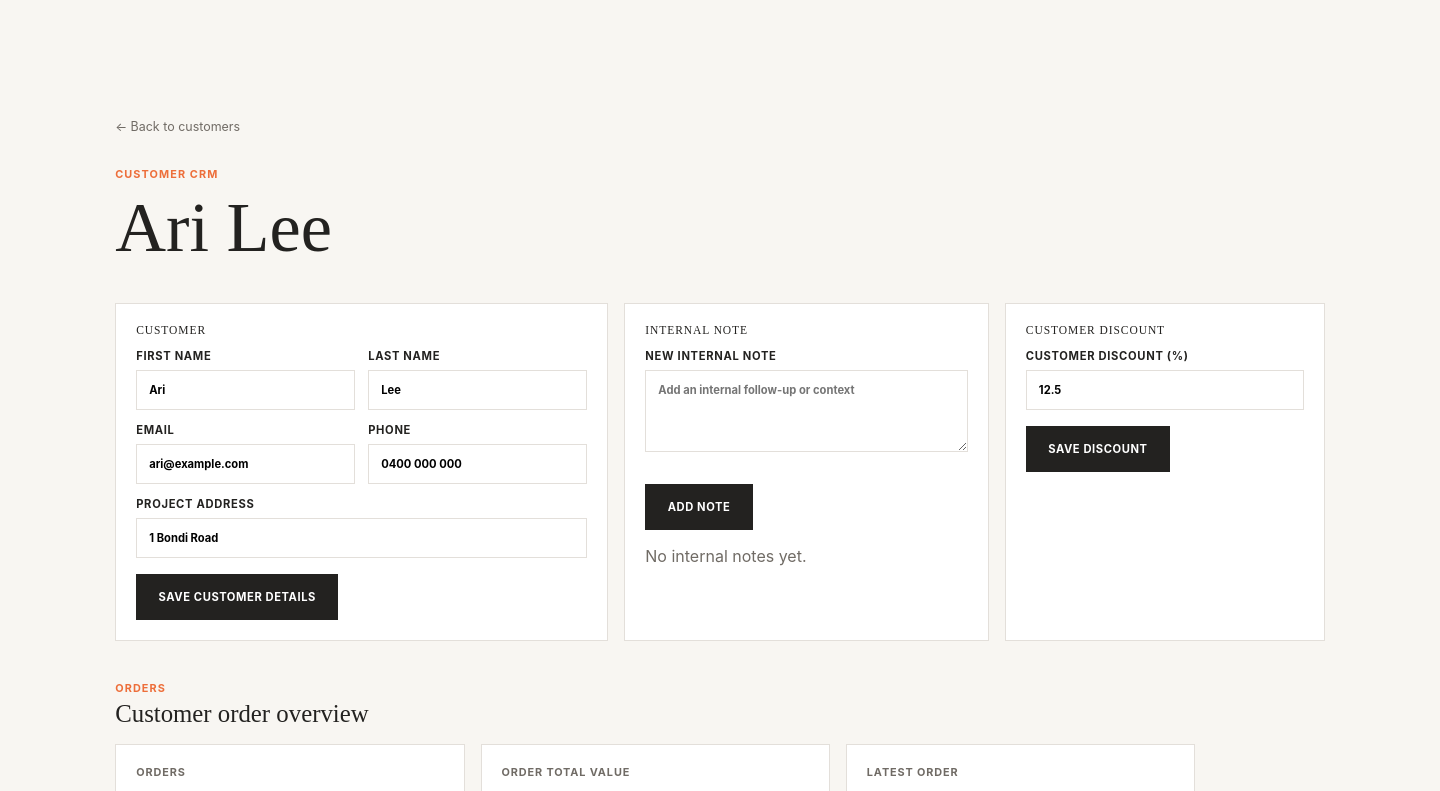
saves a registered customer discount from the CRM detail page
Replace the text in the number field labelled "Customer discount (%)" with "15": {"x": 1165, "y": 390} [1026,370,1304,410]
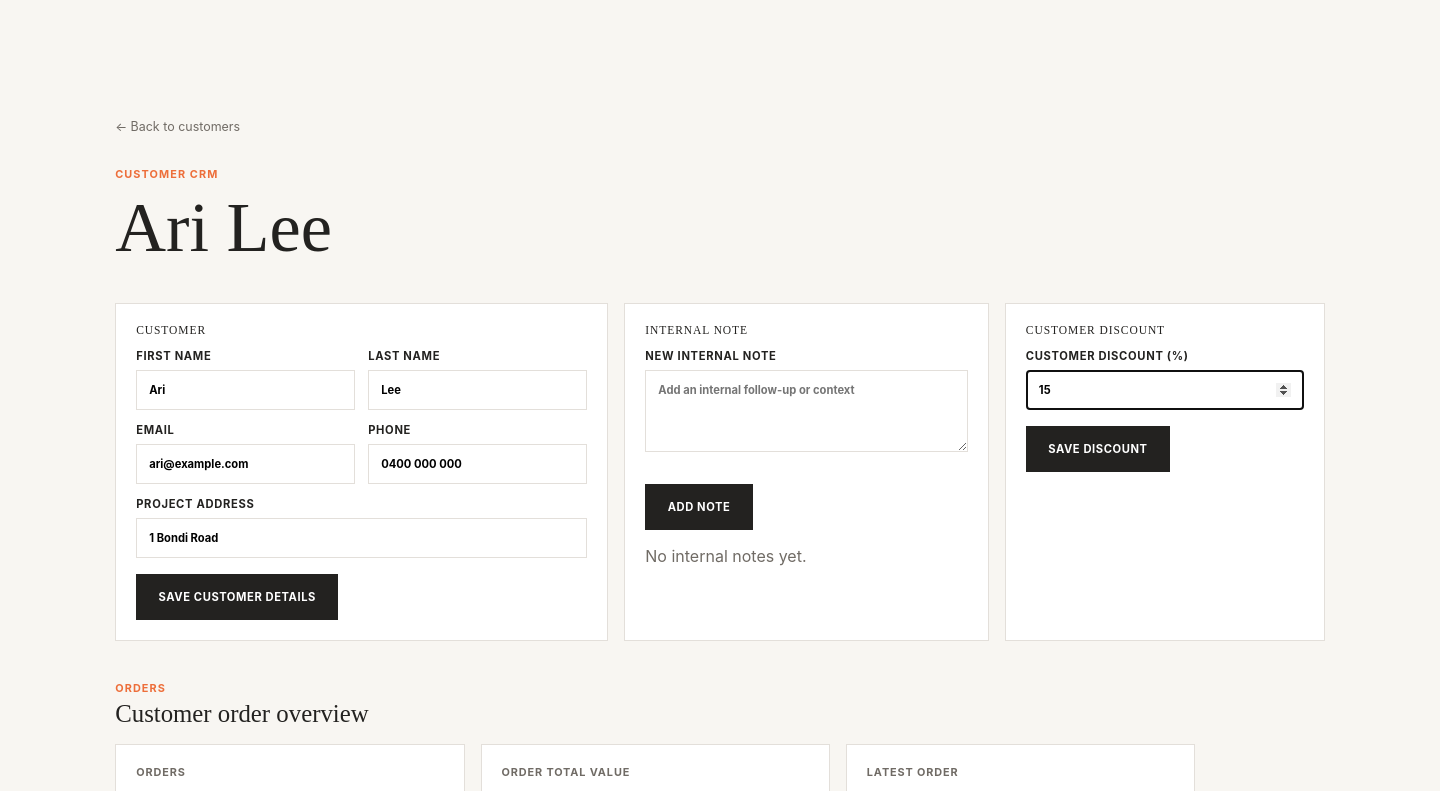
Click the button "Save discount": {"x": 1098, "y": 449} [1026,426,1170,472]
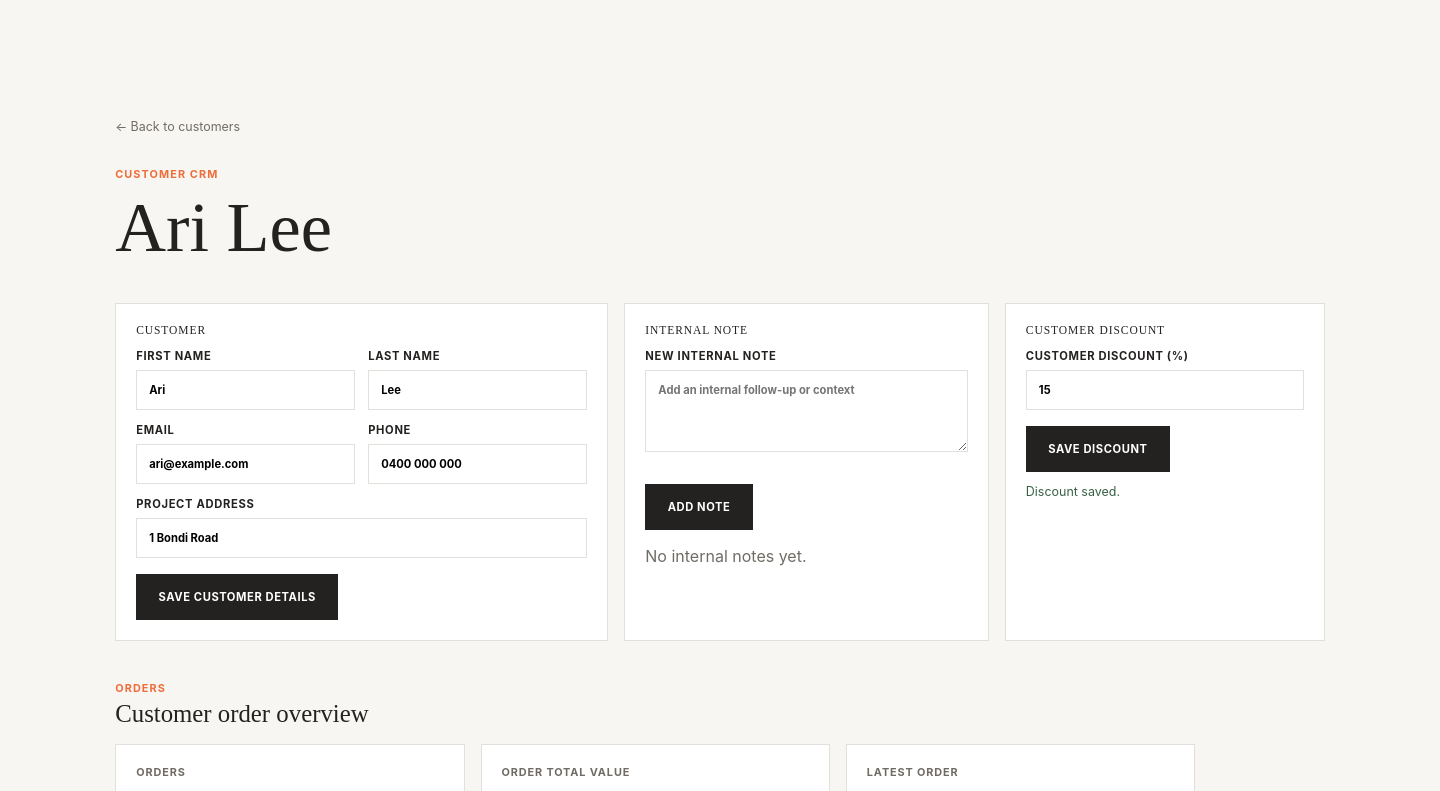
Now the text "Discount saved." is shown, box [1026,484,1120,499]
